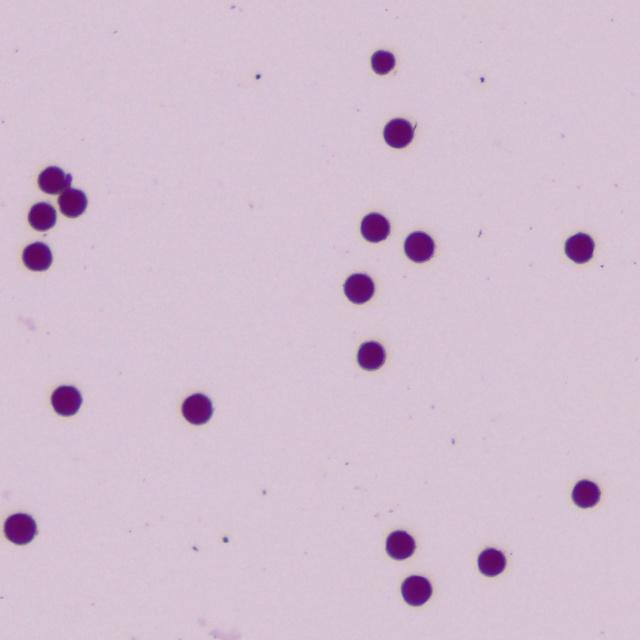viable: (182, 393, 213, 424), (5, 513, 36, 543), (565, 232, 594, 263), (405, 232, 434, 262), (51, 386, 81, 415), (402, 576, 431, 605), (361, 212, 389, 242), (345, 273, 373, 303), (386, 530, 414, 559), (384, 119, 413, 147), (572, 479, 600, 507), (58, 188, 86, 216), (23, 243, 52, 270), (28, 202, 55, 230), (478, 548, 505, 576), (38, 166, 66, 193), (358, 341, 384, 369), (371, 50, 395, 74)
